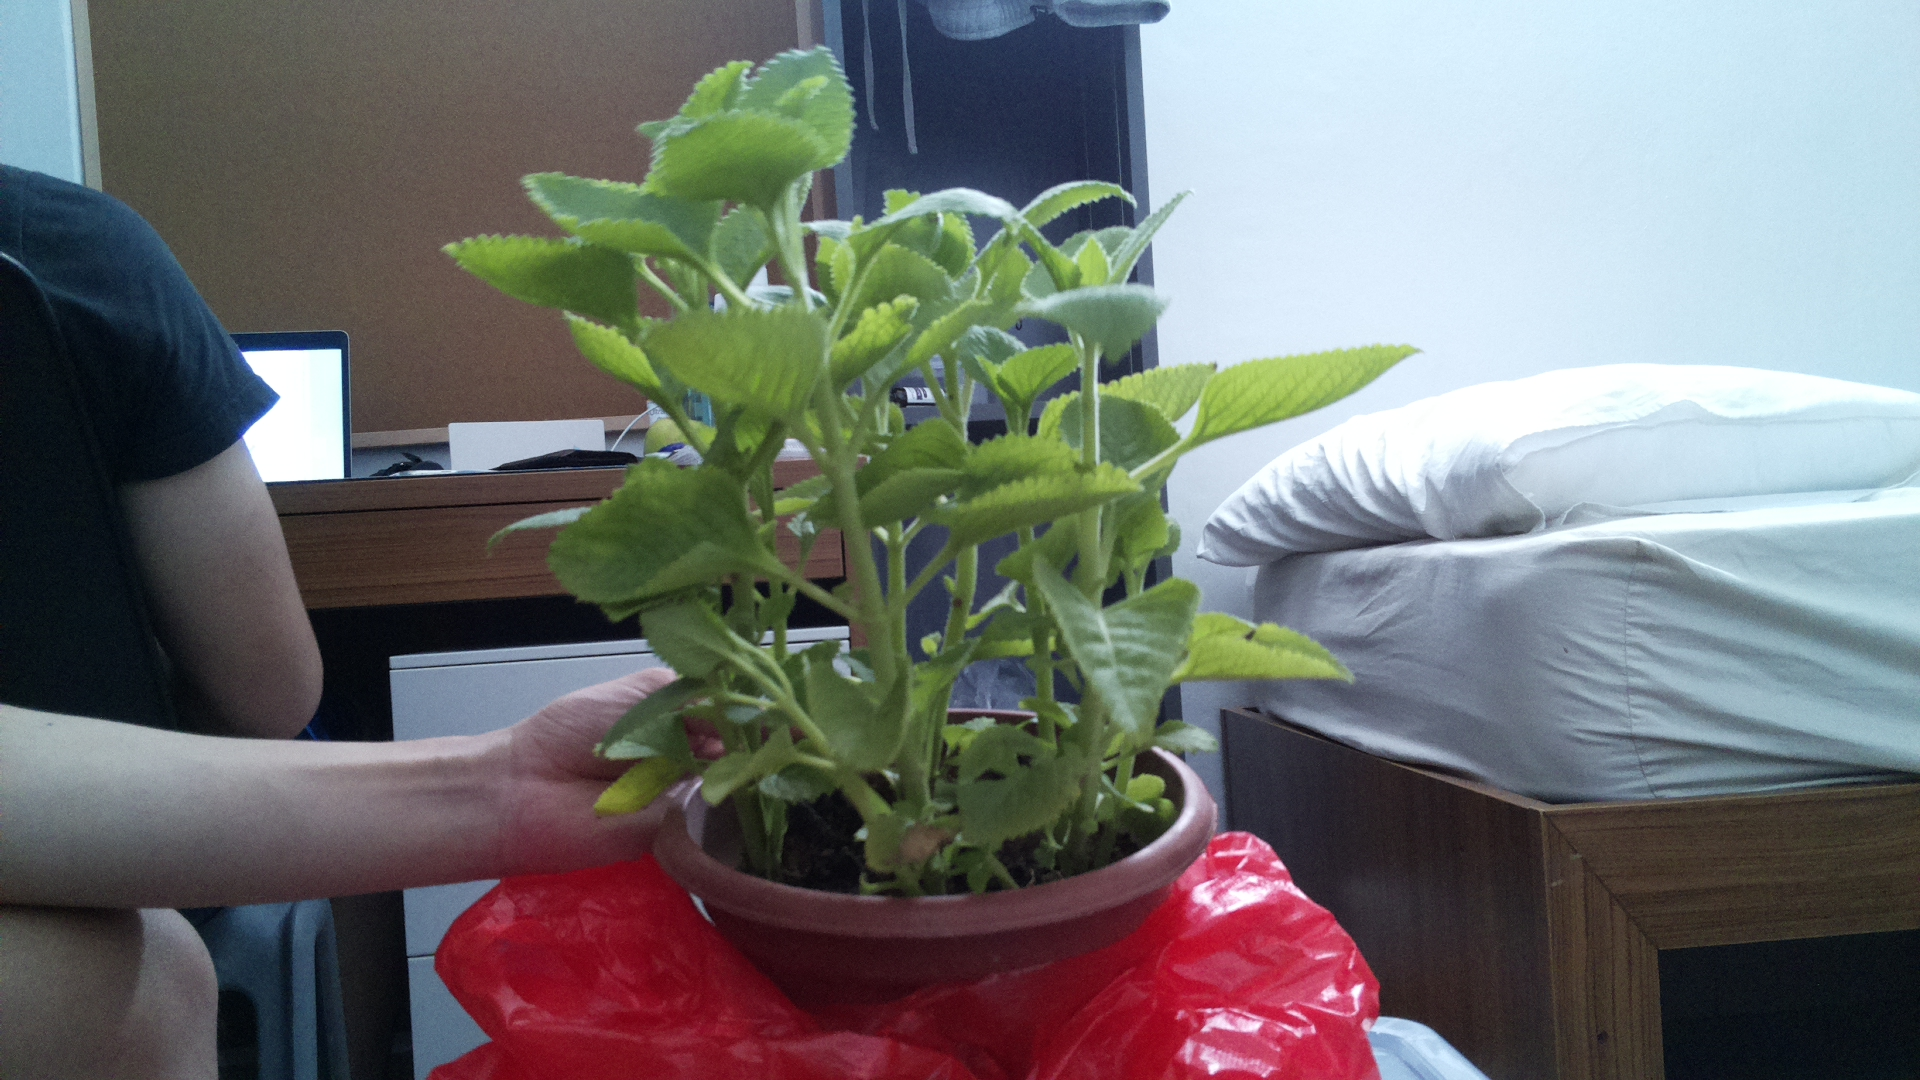leaf: (541, 458, 761, 593), (1168, 338, 1432, 444), (1044, 575, 1193, 757), (516, 165, 735, 278), (649, 302, 827, 434), (633, 117, 860, 214), (444, 225, 641, 330), (799, 650, 932, 783), (1182, 607, 1364, 702), (936, 465, 1141, 546), (976, 170, 1153, 258), (584, 727, 712, 825), (1023, 280, 1164, 367), (560, 306, 673, 407)
